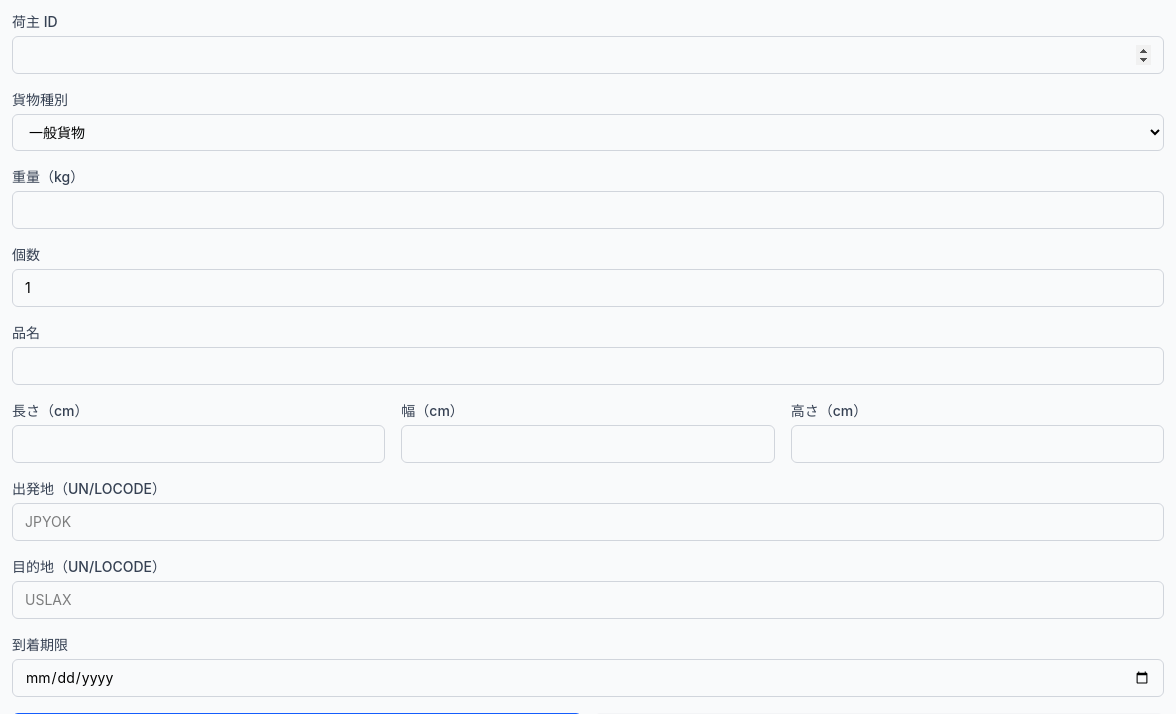
it: BookingForm › 貨物種別を REFRIGERATED に切り替えると TemperatureCondition の入力欄が表示される
The width and height of the screenshot is (1176, 714).
Select "冷凍・冷蔵" in the dropdown labelled "貨物種別": (588, 132) [12,114,1164,151]
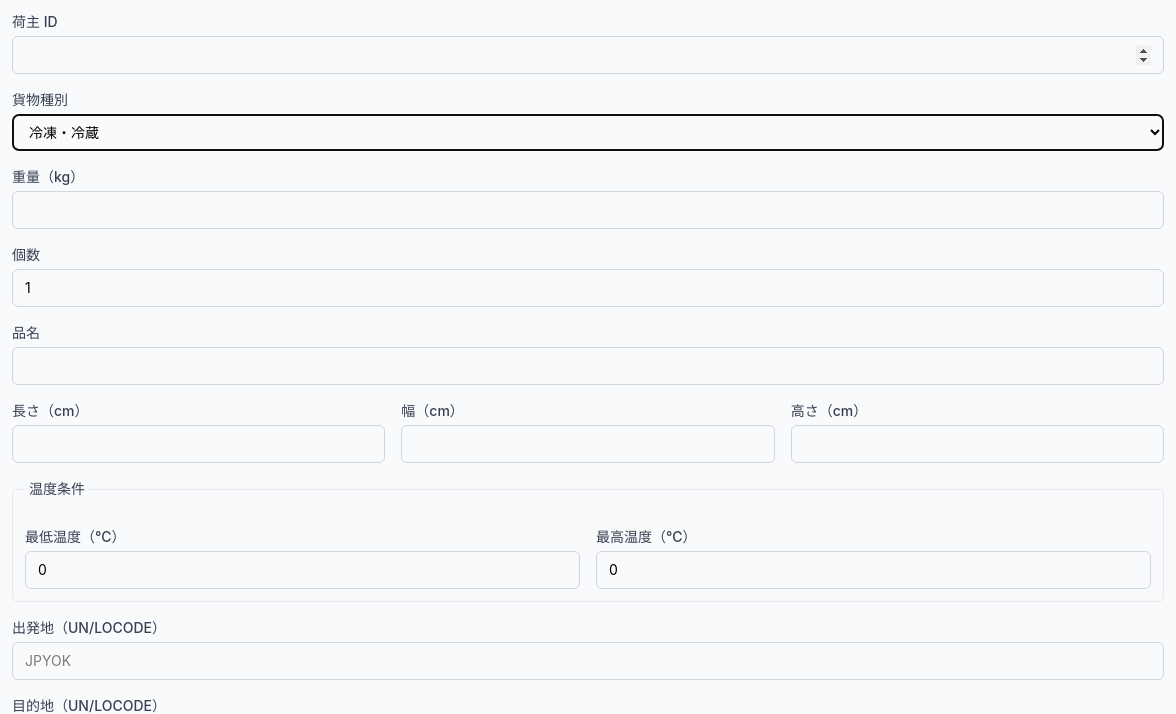
Expected: the number field labelled "最低温度（℃）" is shown, [25,551,580,589]
Expected: the number field labelled "最高温度（℃）" is shown, [596,551,1151,589]
